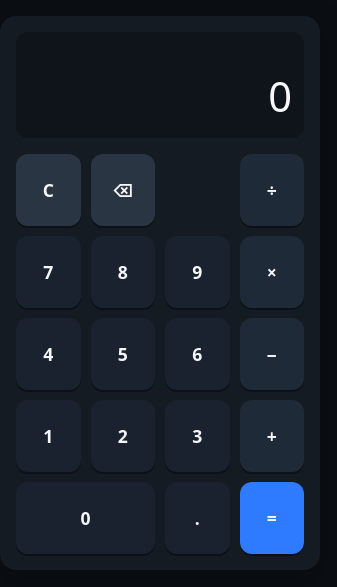
Calculator UI › backspace deletes last char only
The width and height of the screenshot is (337, 587).
Step 1. Click the button "1" → {"x": 48, "y": 436}, box [16,400,80,472]
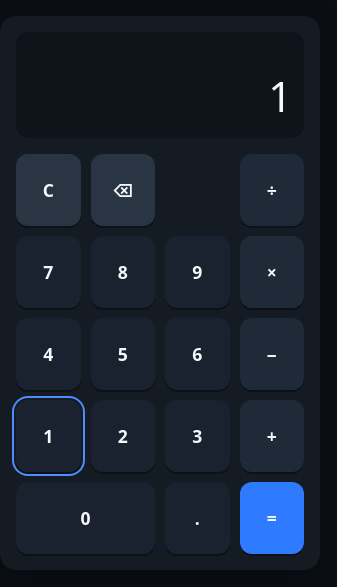
Step 2. Click the button "2" → {"x": 123, "y": 436}, box [90,400,155,472]
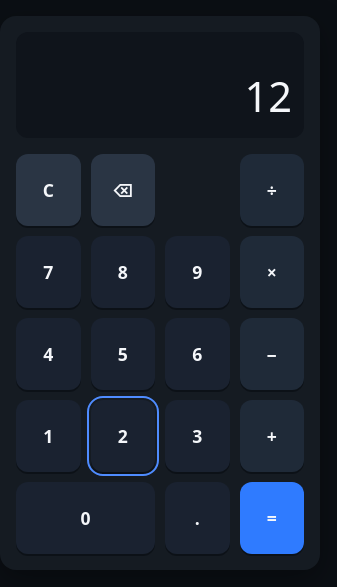
Step 3. Click the button "3" → {"x": 197, "y": 436}, box [165,400,230,472]
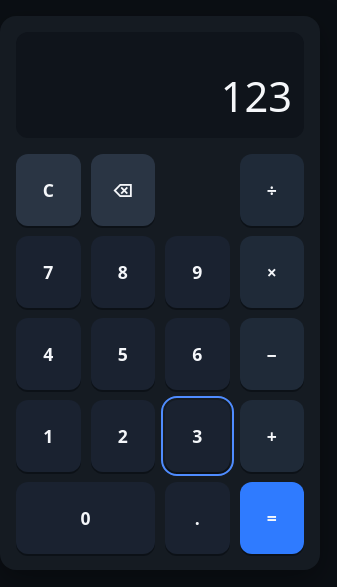
Step 4. Press Backspace
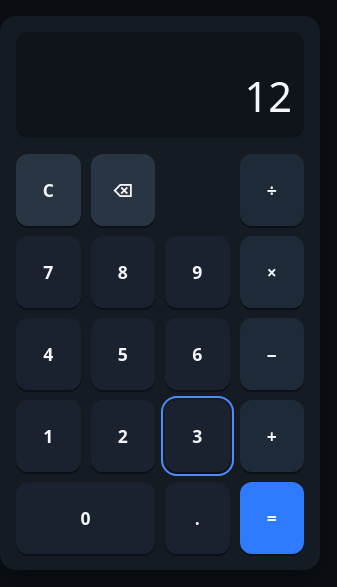
Result: the text named "Current value" reads "12" at [244,68,292,124]
